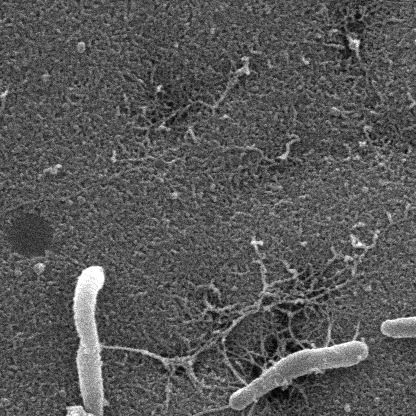cell2surface: (100, 344, 184, 372)
filament: (74, 265, 106, 416)
regular: (230, 341, 369, 411), (382, 315, 416, 341)
